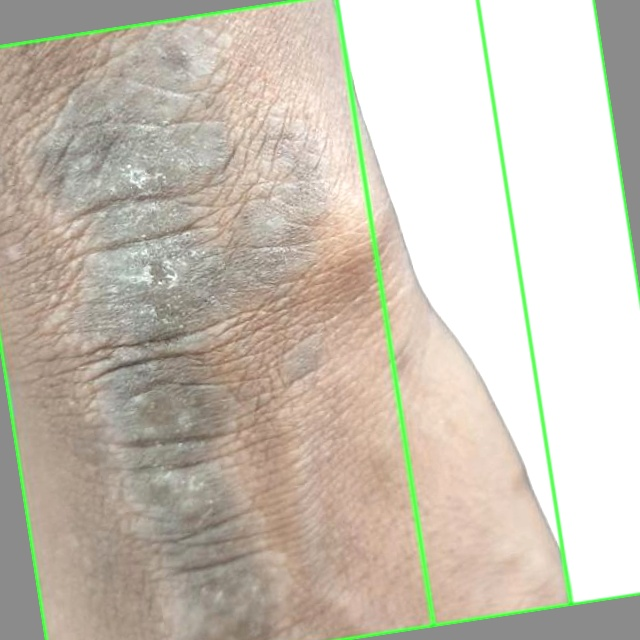Eczema: (0, 0, 571, 639), (336, 0, 639, 626)
